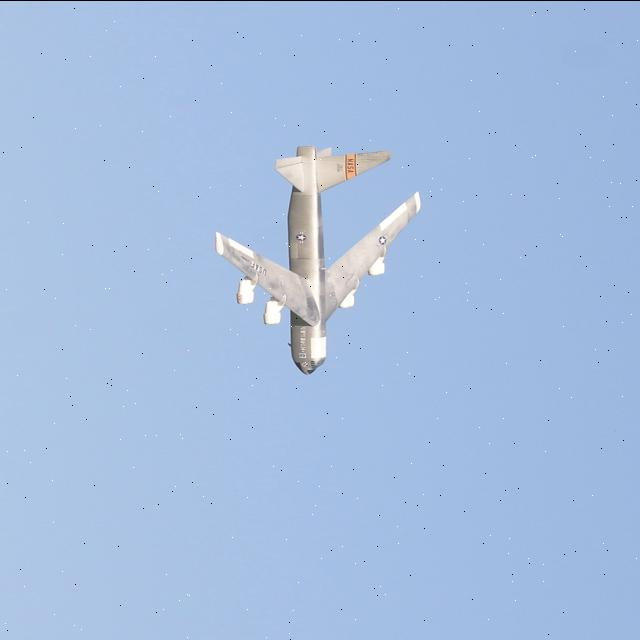B52: (196, 118, 434, 401)
